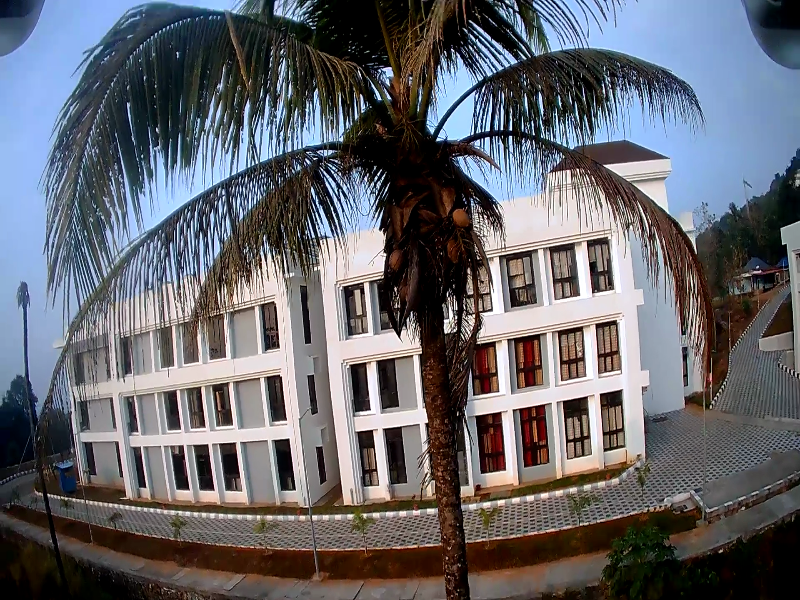coconut: (452, 207, 468, 237), (386, 252, 404, 272)
